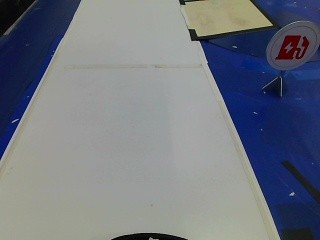battery: (266, 19, 317, 72)
